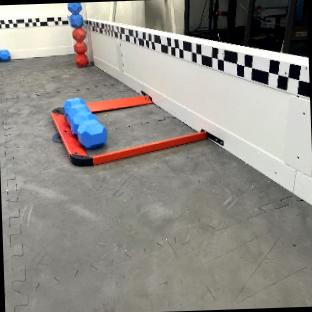V5_BLUE: (64, 97, 107, 149), (0, 50, 10, 61)
V5_RED: (73, 26, 87, 65)
